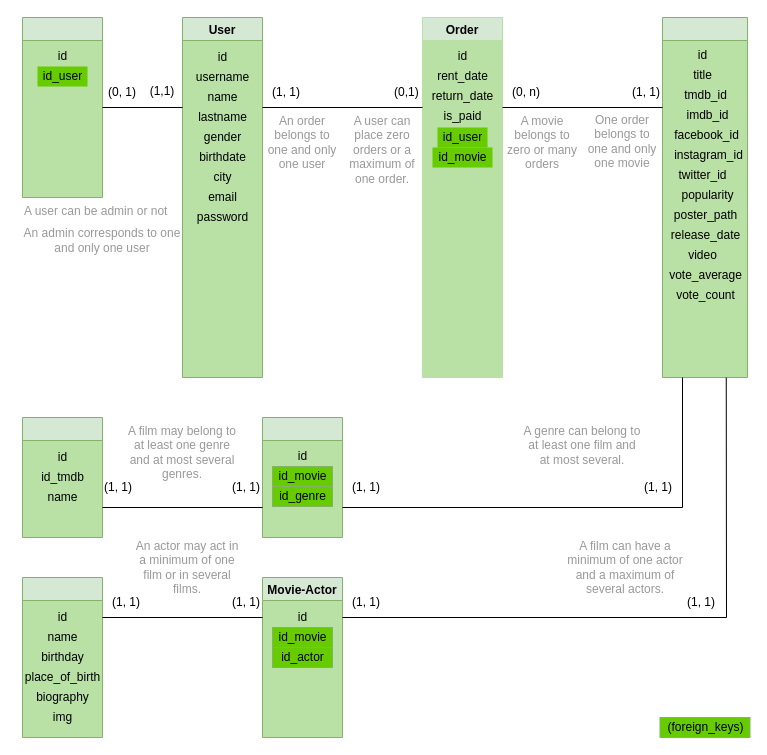
Image size: 767x755. Some labels were removed from this diagram. Here are the shapes that lost their labels. From the top down, the box of each, then its label:
(22, 16, 102, 198): Admin
(662, 16, 748, 378): Movie
(22, 416, 102, 538): Genre
(262, 416, 342, 538): Movie-Genre
(22, 576, 102, 738): Actor
